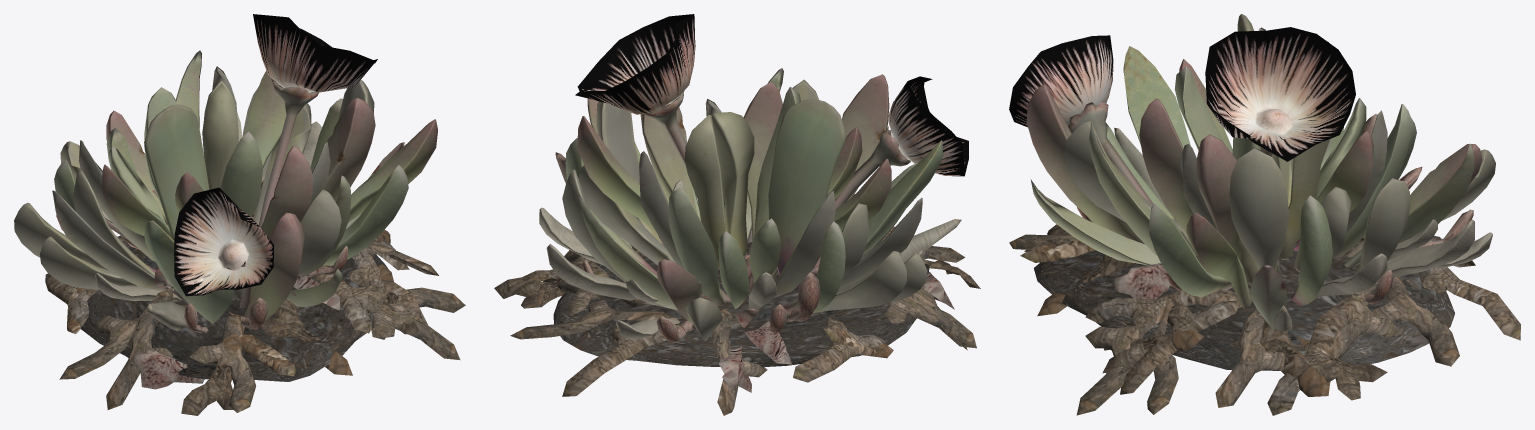
The model's file is suculenta.glb.
The picture shows the model from 3 angles, left to right: view 1: azimuth 30°, elevation 25°; view 2: azimuth 150°, elevation 25°; view 3: azimuth 270°, elevation 25°; orthographic projection. The views are drawn at different scales.
Parts seen in each view (by area): view 1: cheiridopsis_succulent_d_LOD0; view 2: cheiridopsis_succulent_d_LOD0; view 3: cheiridopsis_succulent_d_LOD0.
Boxes of the visible parts, x1,y1,x2,y2 form: cheiridopsis_succulent_d_LOD0: [14, 14, 465, 415]; cheiridopsis_succulent_d_LOD0: [494, 14, 980, 415]; cheiridopsis_succulent_d_LOD0: [1009, 14, 1520, 415].
Size of the model in its own units: 0.353 by 0.2547 by 0.3498.
2 materials, 2 textured.
